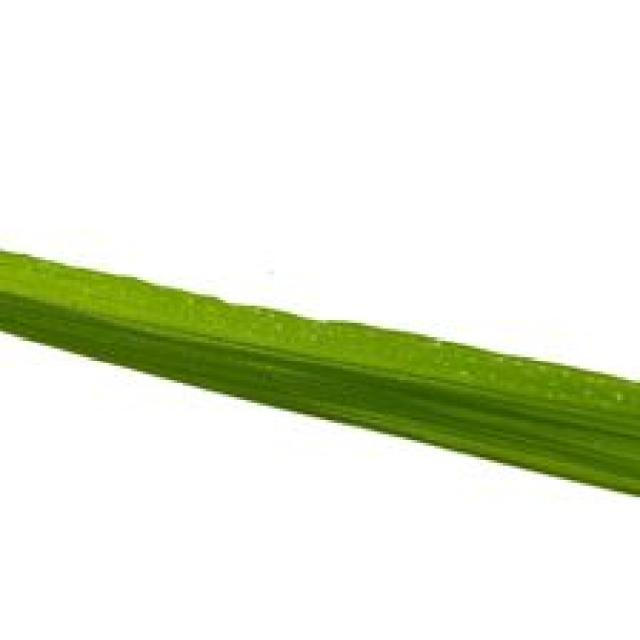Rice___Healthy_Rice_Plant: (0, 246, 637, 498)
